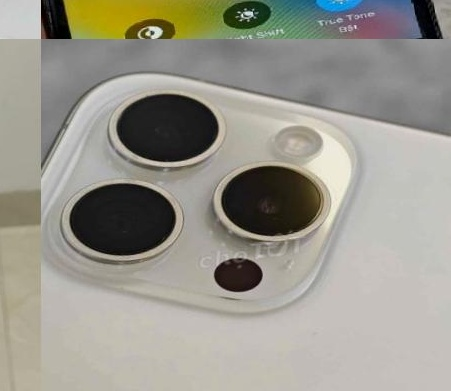scratch: (41, 0, 102, 39)
